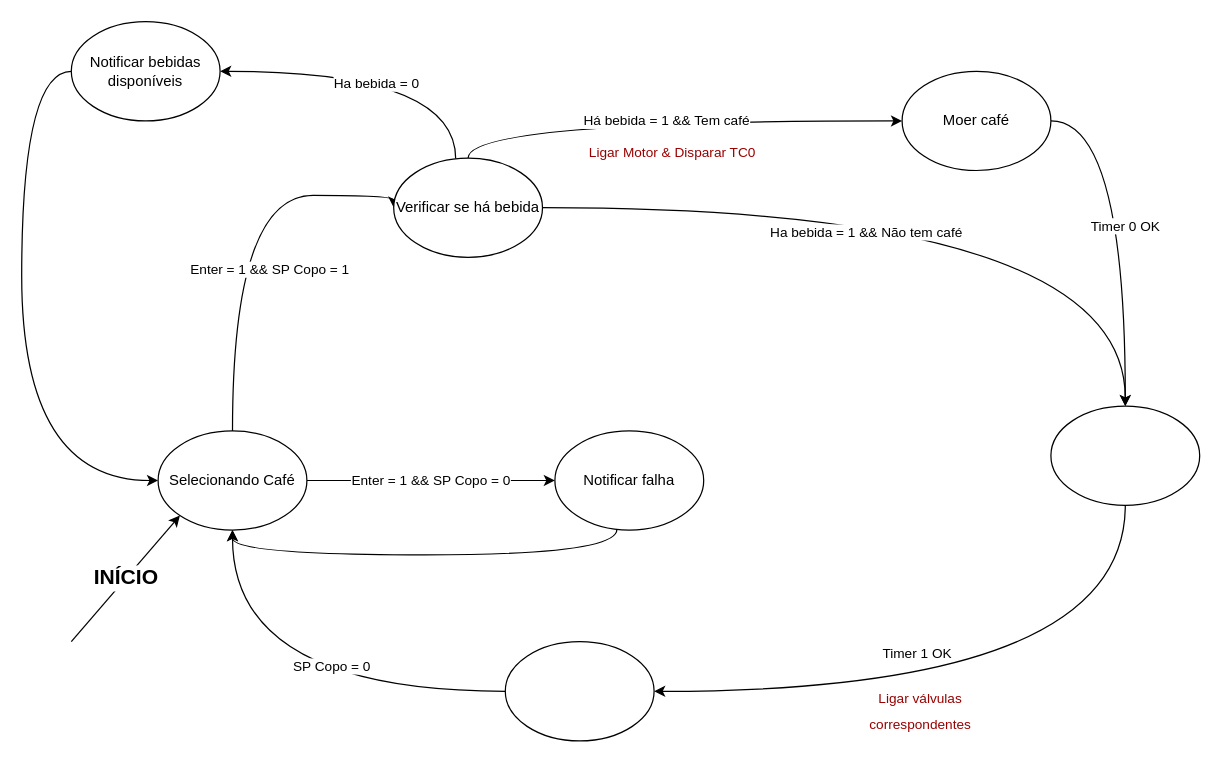
Some shapes in this 1221 by 763 pixel diagram are drawn without their labels. Each missing label, with the centre of its shape:
Preparando bebida: (x=1125, y=455)
Retirando o copo: (x=579, y=690)
